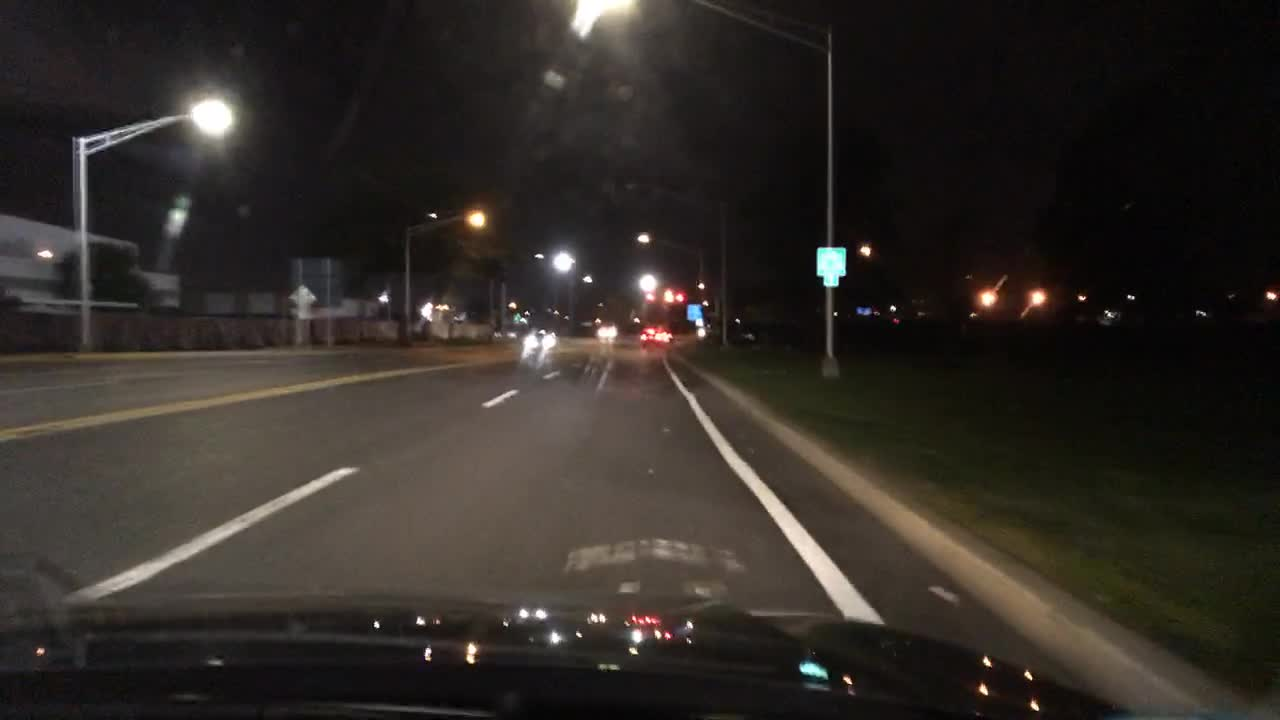car: (522, 327, 556, 348), (639, 324, 670, 347), (595, 320, 620, 342)
traffic light: (675, 291, 686, 308)
traffic sign: (816, 247, 844, 273), (289, 284, 316, 303), (288, 305, 312, 318), (687, 301, 702, 319), (824, 273, 840, 289)
